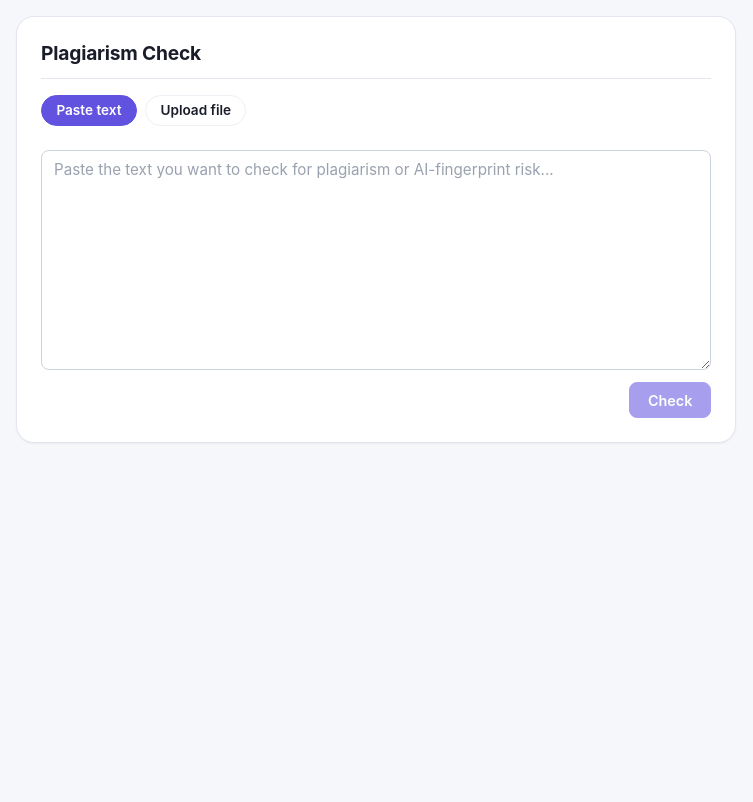
Test: PlagiarismCheckPanel › highlights plagiarized and AI-like sentences distinctly
Replace the text in the text box labelled "Paste the text you want to check for plagiarism or AI-fingerprint risk..." with "Some text with repeated sentence starters. This is a clean sentence." at (376, 260), box [41,150,711,370]
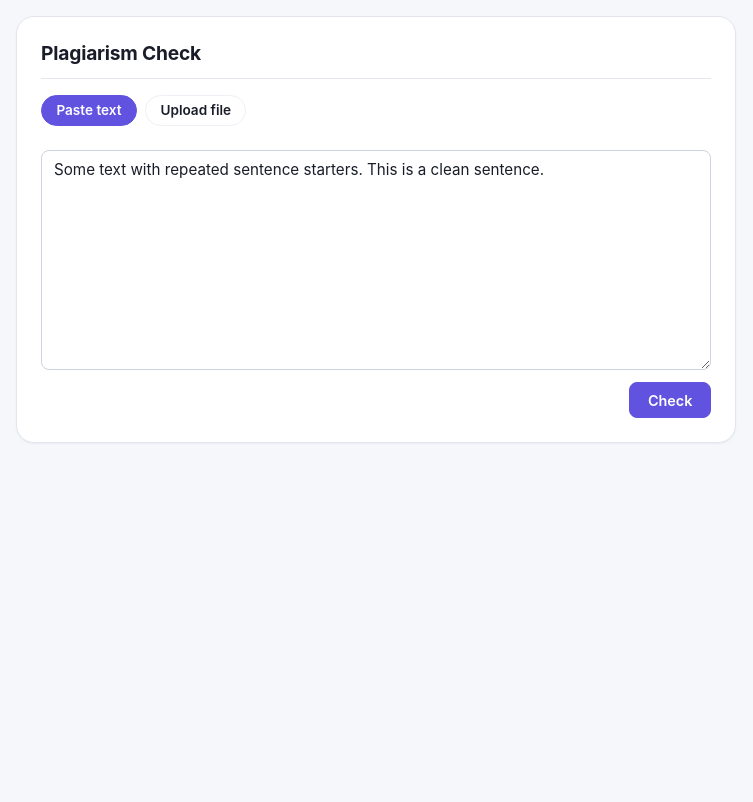
Click the button "Check".
click(670, 400)  # box [629,382,711,418]
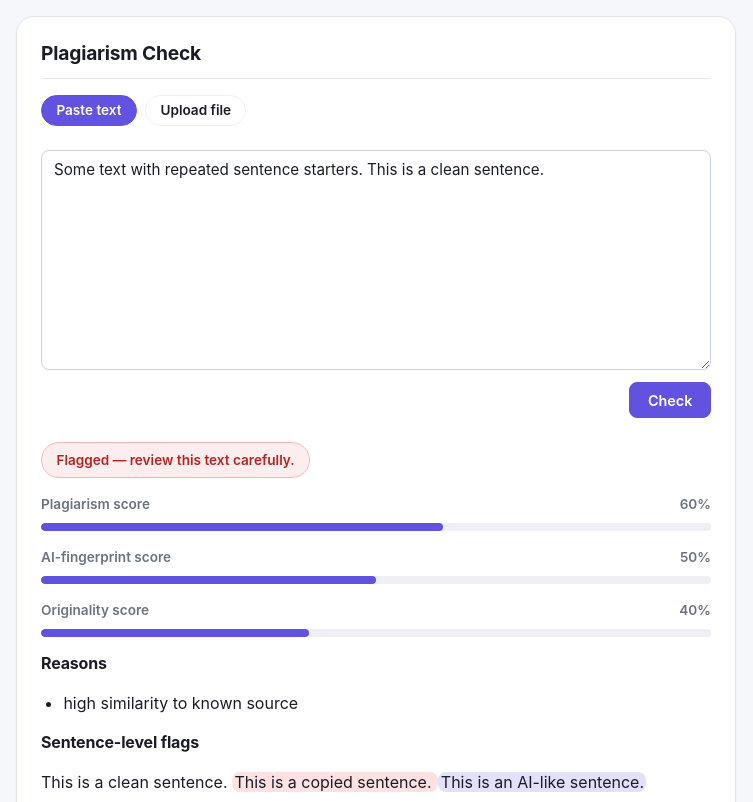
Result: the heading "Sentence-level flags" is shown at [41,732,199,752]
